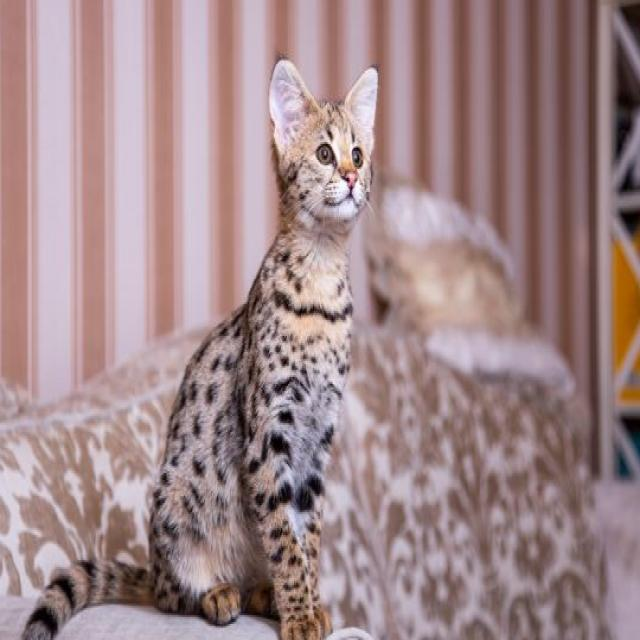Savannah: (14, 55, 382, 640)
